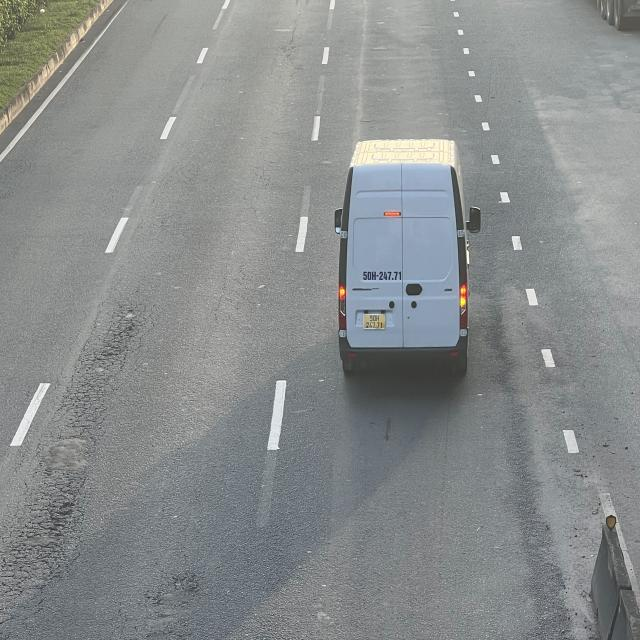van: (337, 143, 482, 384)
